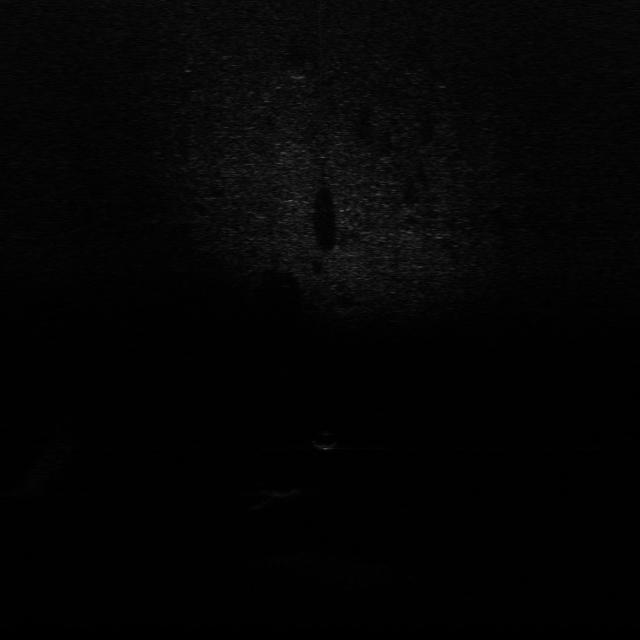ball: (312, 428, 342, 452)
square cage: (256, 483, 310, 506)
